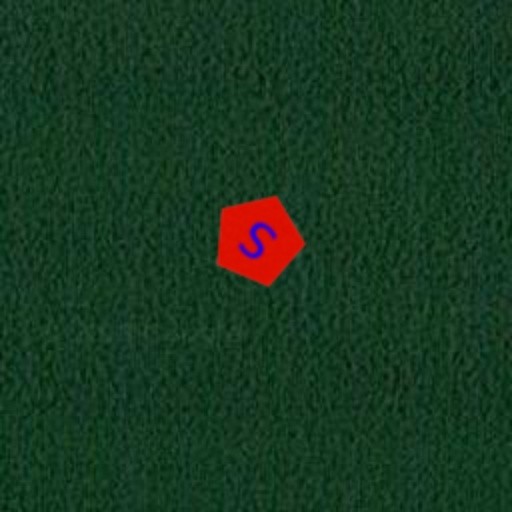pentagon: (190, 172, 326, 308)
